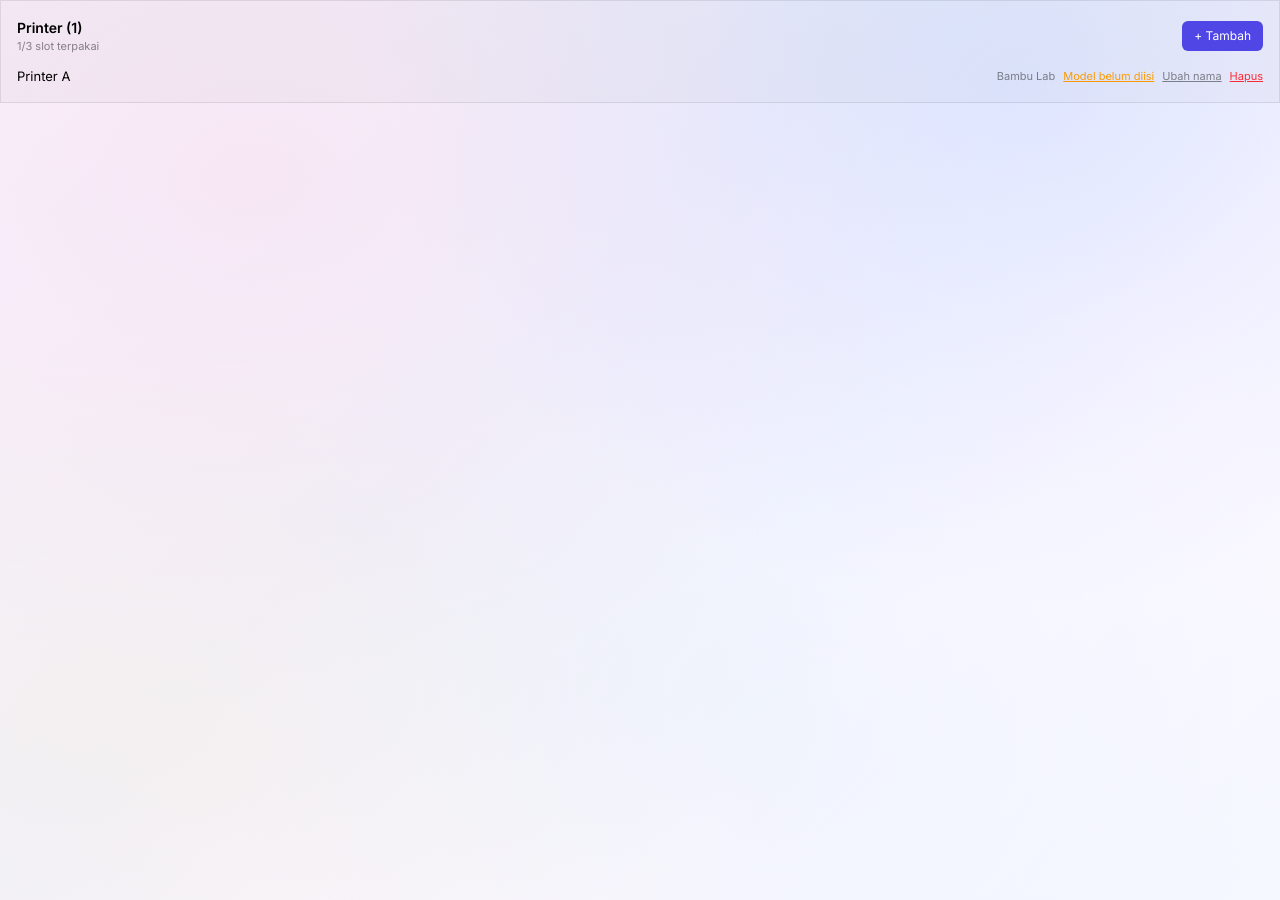
Test: DeviceList › edit inline model > 11 karakter -> tampilkan hint batas firmware
Click the button with aria-label "isi model printer a" at (1109, 76), box top-left (1063, 68), bottom-right (1154, 84)
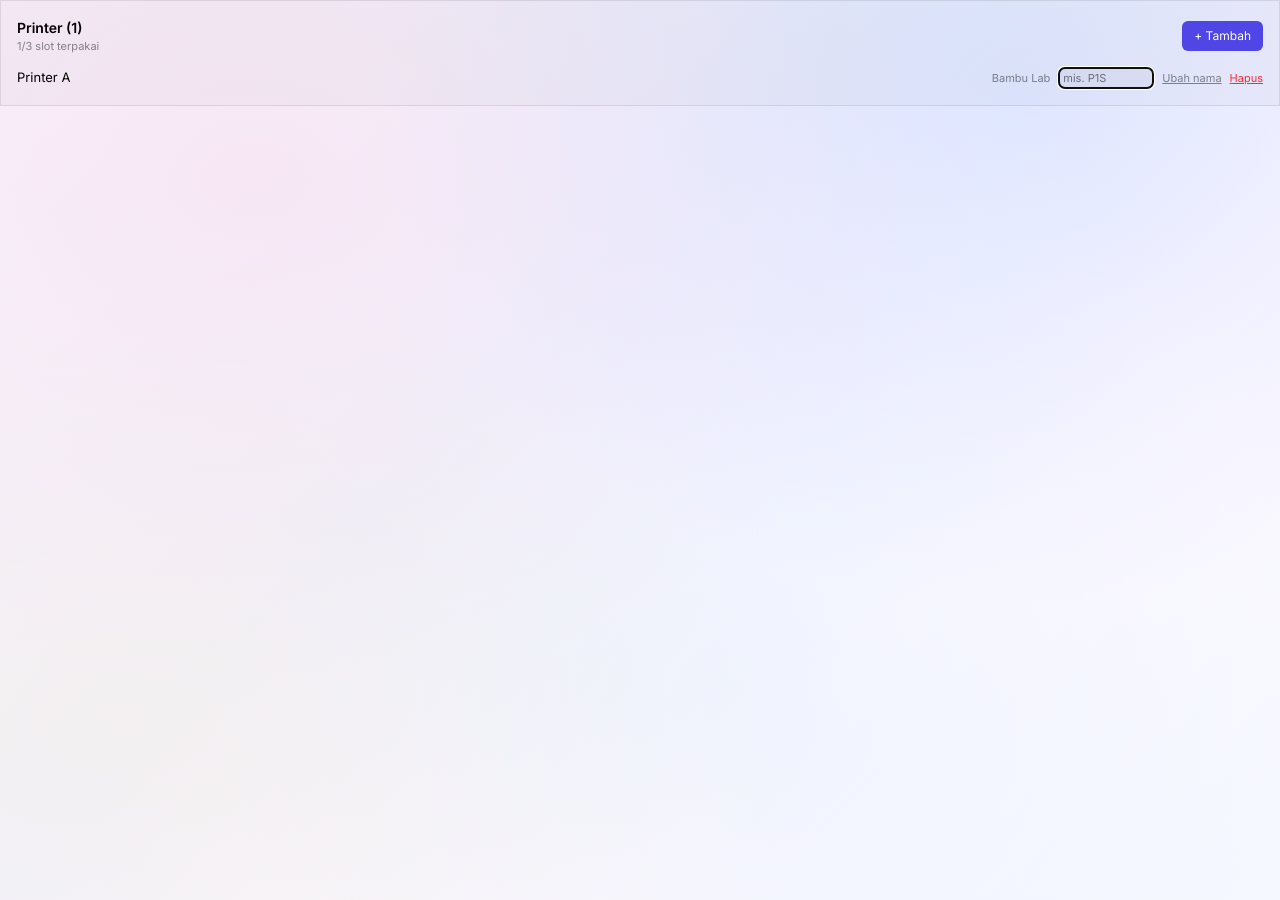
Type "TerlaluPanjangUntukFirmware" into the field named "Model printer Printer A" at (1106, 78), box top-left (1058, 66), bottom-right (1154, 89)
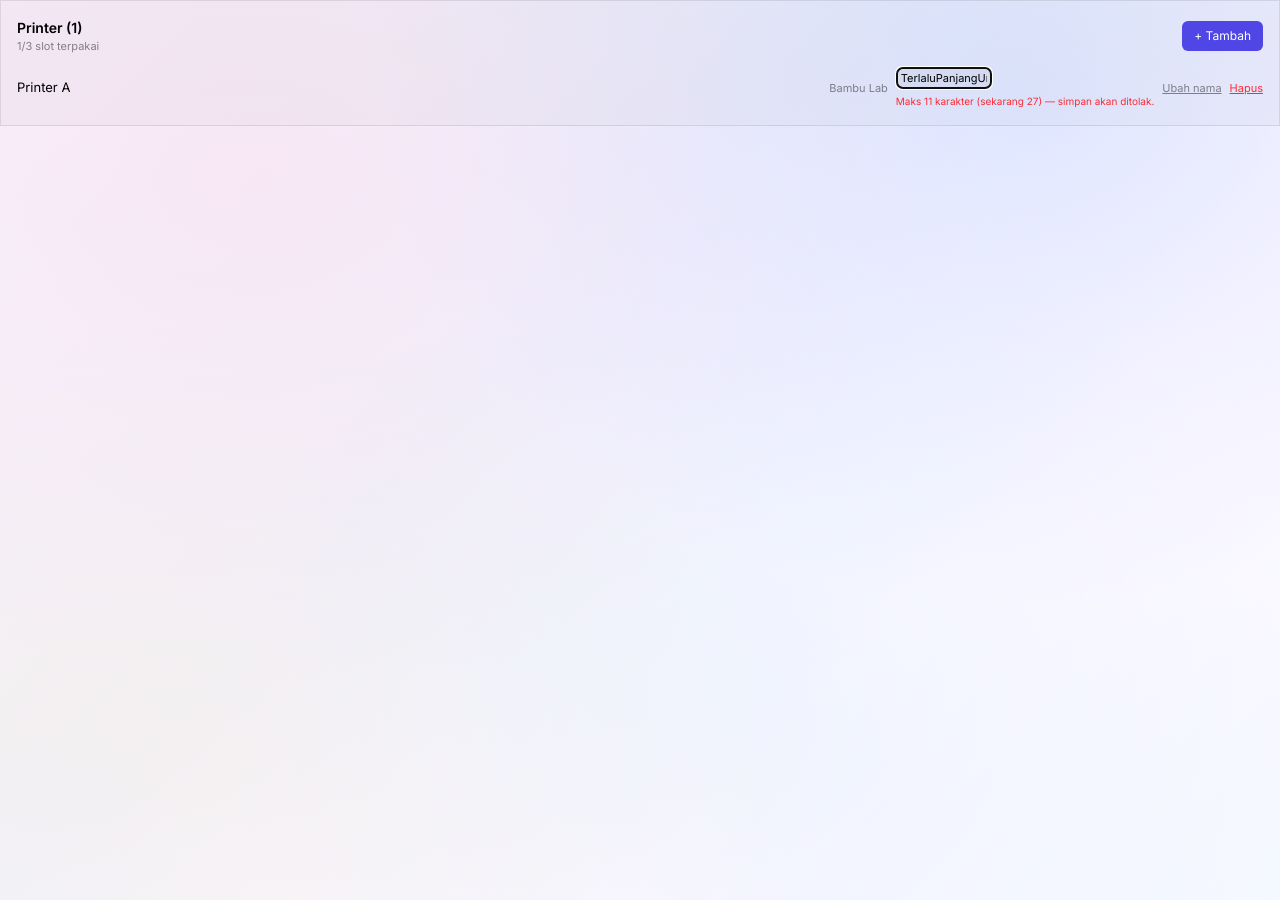
Result: the text "Maks 11 karakter (sekarang 27) — simpan akan ditolak." is shown at top-left (896, 93), bottom-right (1154, 109)
